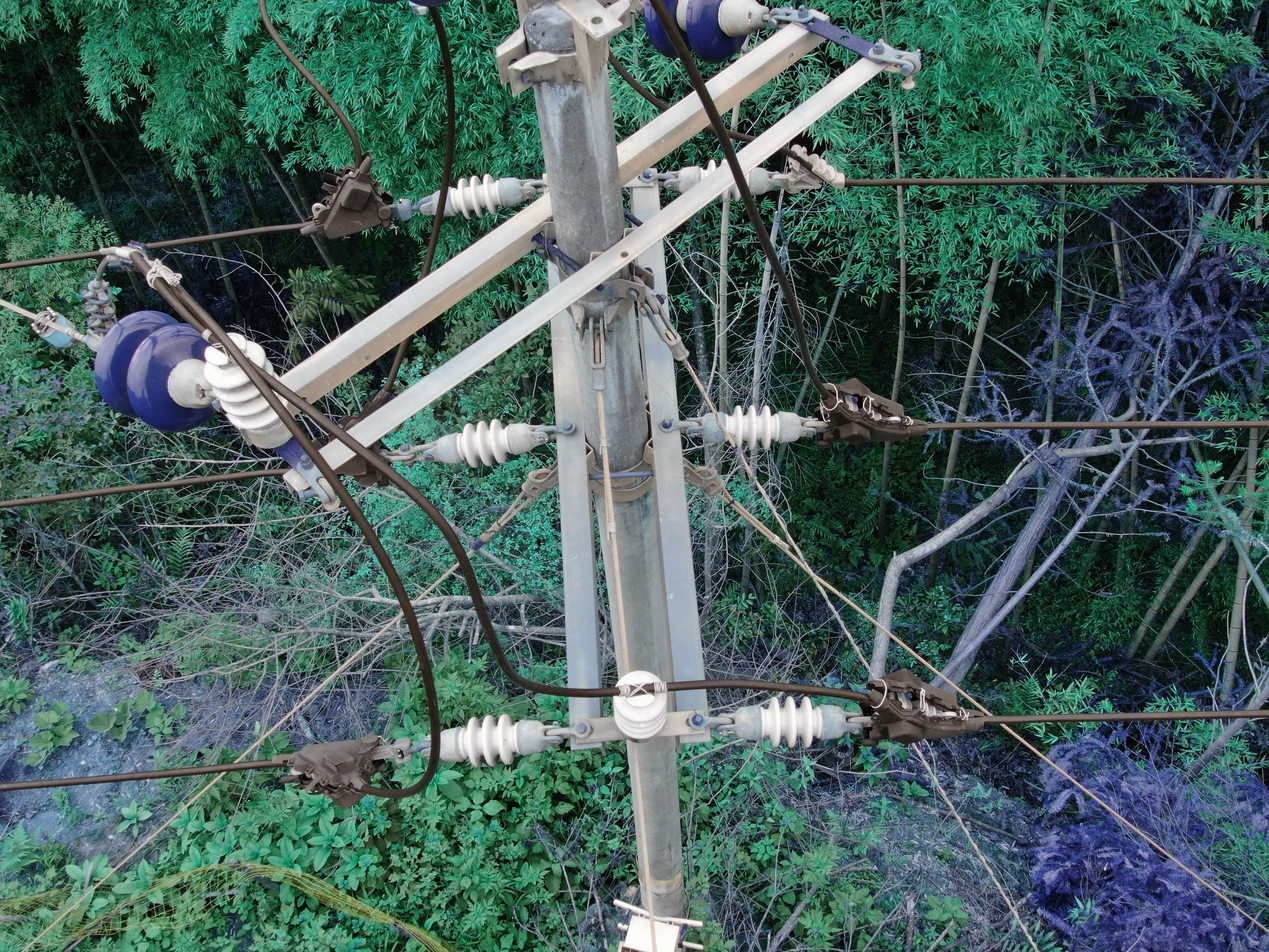severe_soiling_no_discharge_whole: (200, 330, 300, 449), (446, 706, 550, 771)
